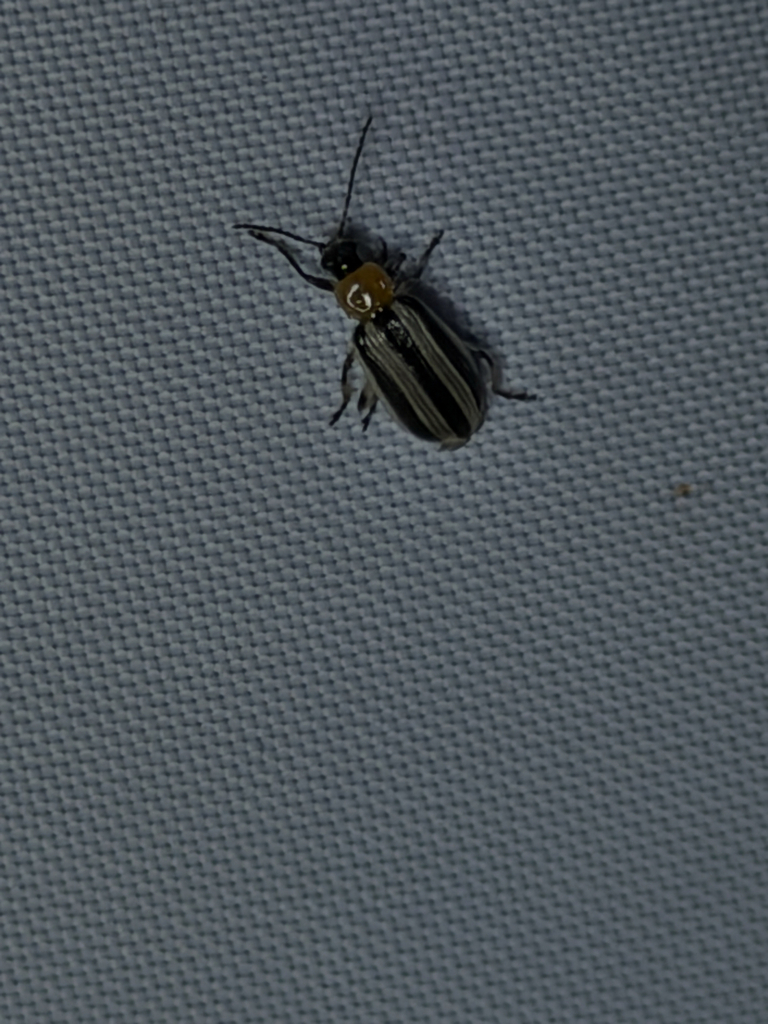potato_beetle: (145, 37, 642, 560)
